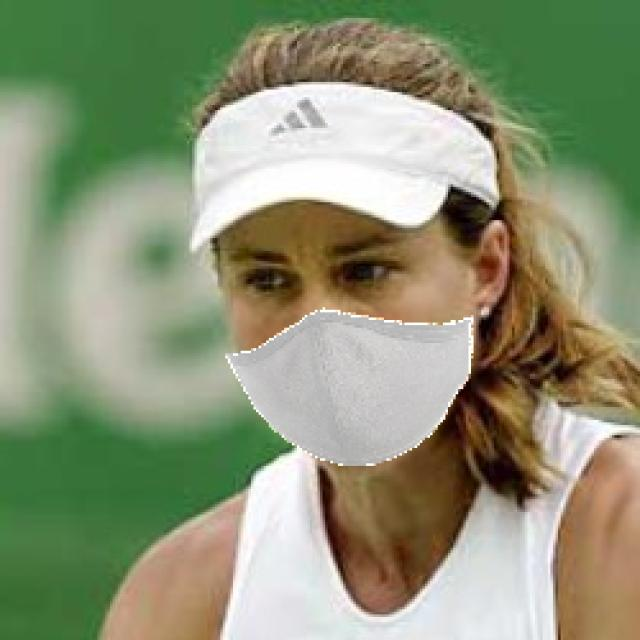mask: (196, 299, 498, 484)
